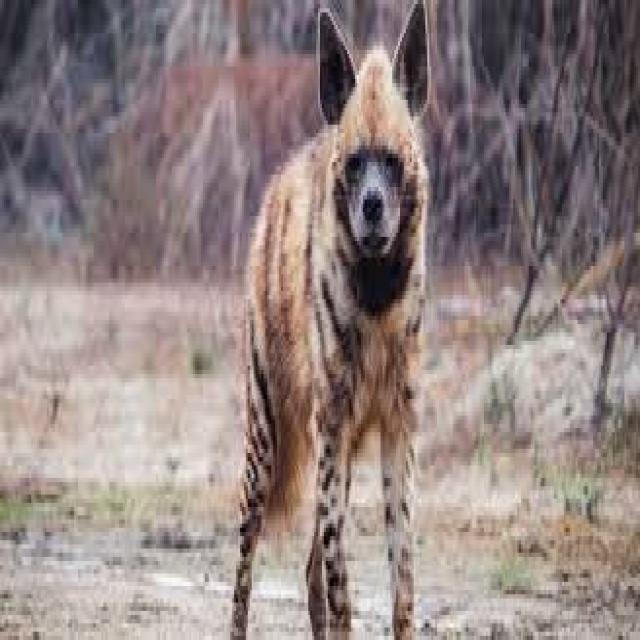Hyena: (225, 6, 438, 634)
